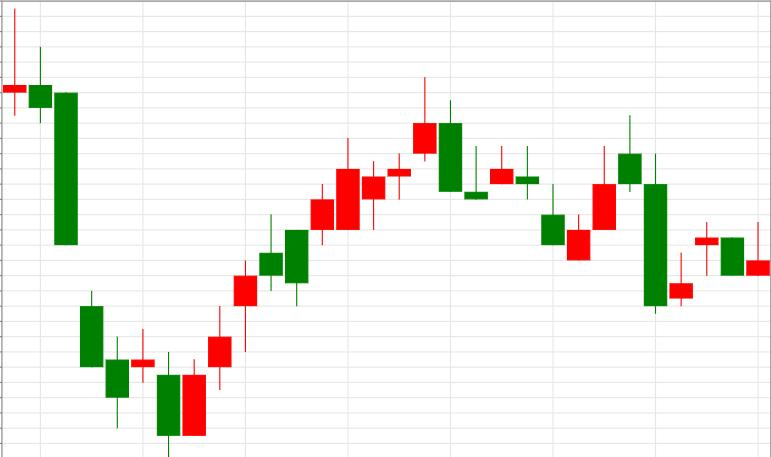shooting_star_fall: (182, 214, 282, 436), (311, 77, 436, 246)
